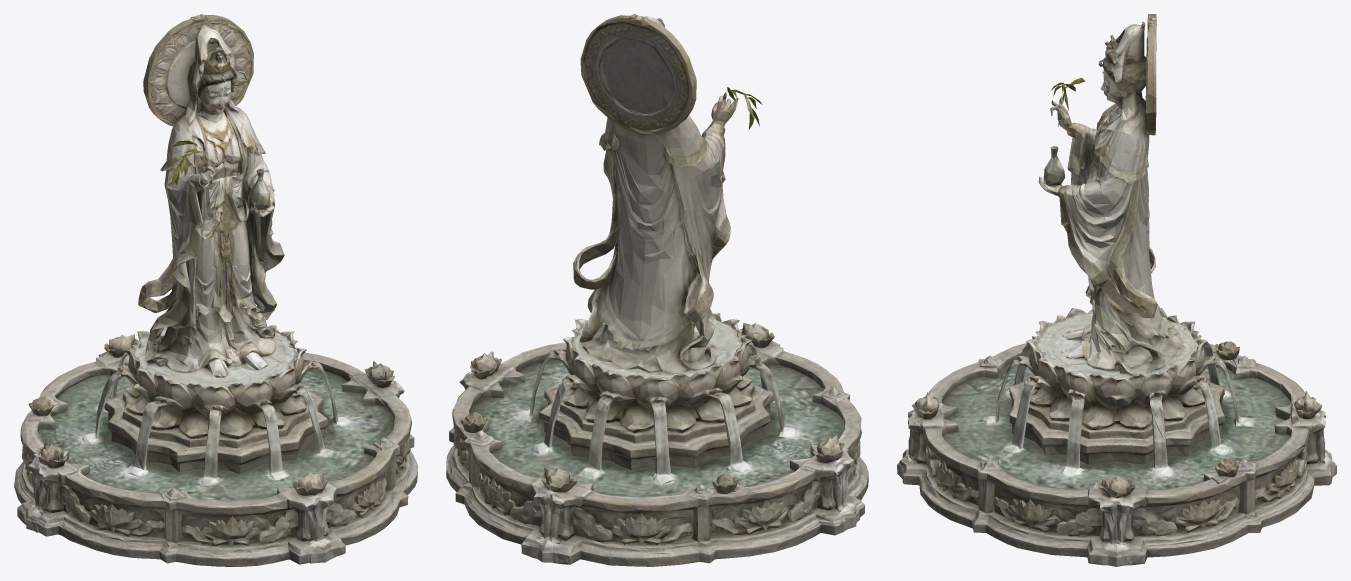
The model's file is guanyin-lite.glb.
3 renders of one model, left to right at view 1: azimuth 30°, elevation 25°; view 2: azimuth 150°, elevation 25°; view 3: azimuth 270°, elevation 25°, orthographic. The views are drawn at different scales.
Size of the model in its own units: 0.8563 by 0.9802 by 0.8549.
1 material, 1 textured.
